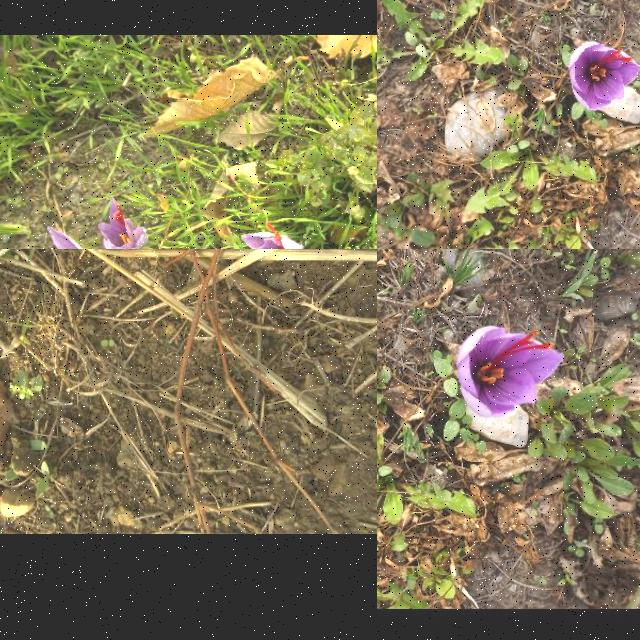flower: (456, 325, 566, 419), (568, 40, 640, 111), (19, 225, 146, 249), (98, 197, 150, 249), (240, 222, 309, 249)
